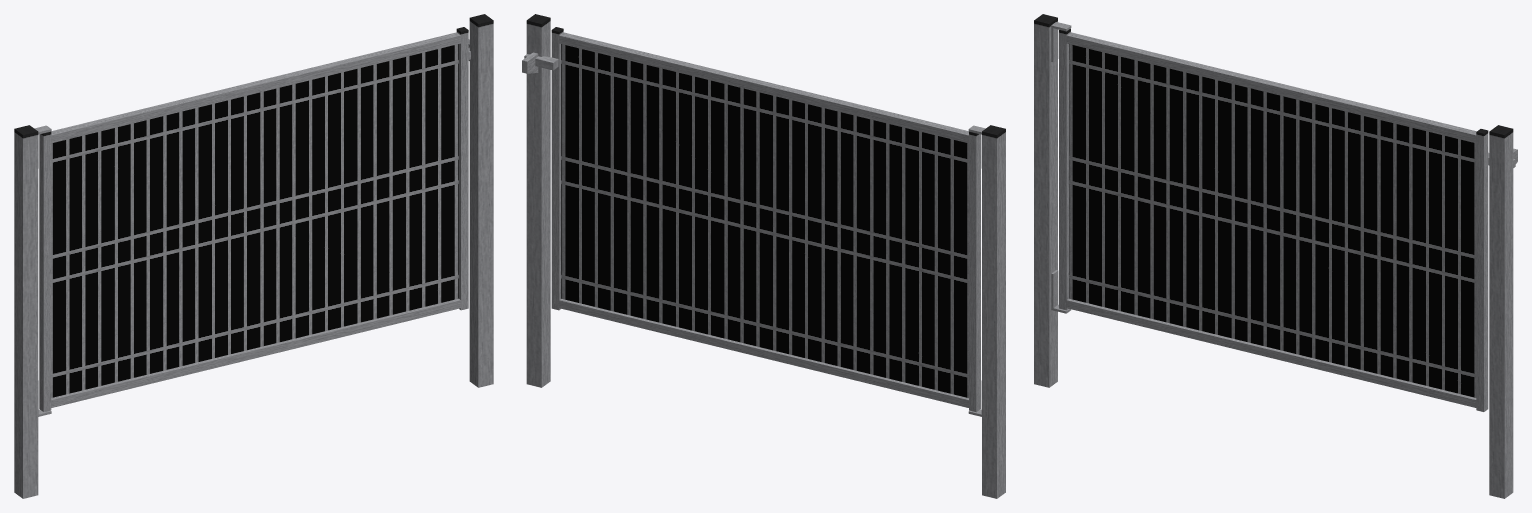
The model's file is fence-mesh-grey-gate-2m-cbj_LOD00.gltf.
3 views of the same model, side by side, from view 1: azimuth 30°, elevation 25°; view 2: azimuth 150°, elevation 25°; view 3: azimuth 330°, elevation 25° (orthographic).
Visible parts, largest first — view 1: post; view 2: post; view 3: post.
Boxes of the visible parts, box(x1,y1,x2,y2) form: post: box(14, 14, 493, 498); post: box(522, 14, 1005, 498); post: box(1034, 14, 1517, 498).
Size of the model in its own units: 2.17 by 1.6 by 0.1573.
